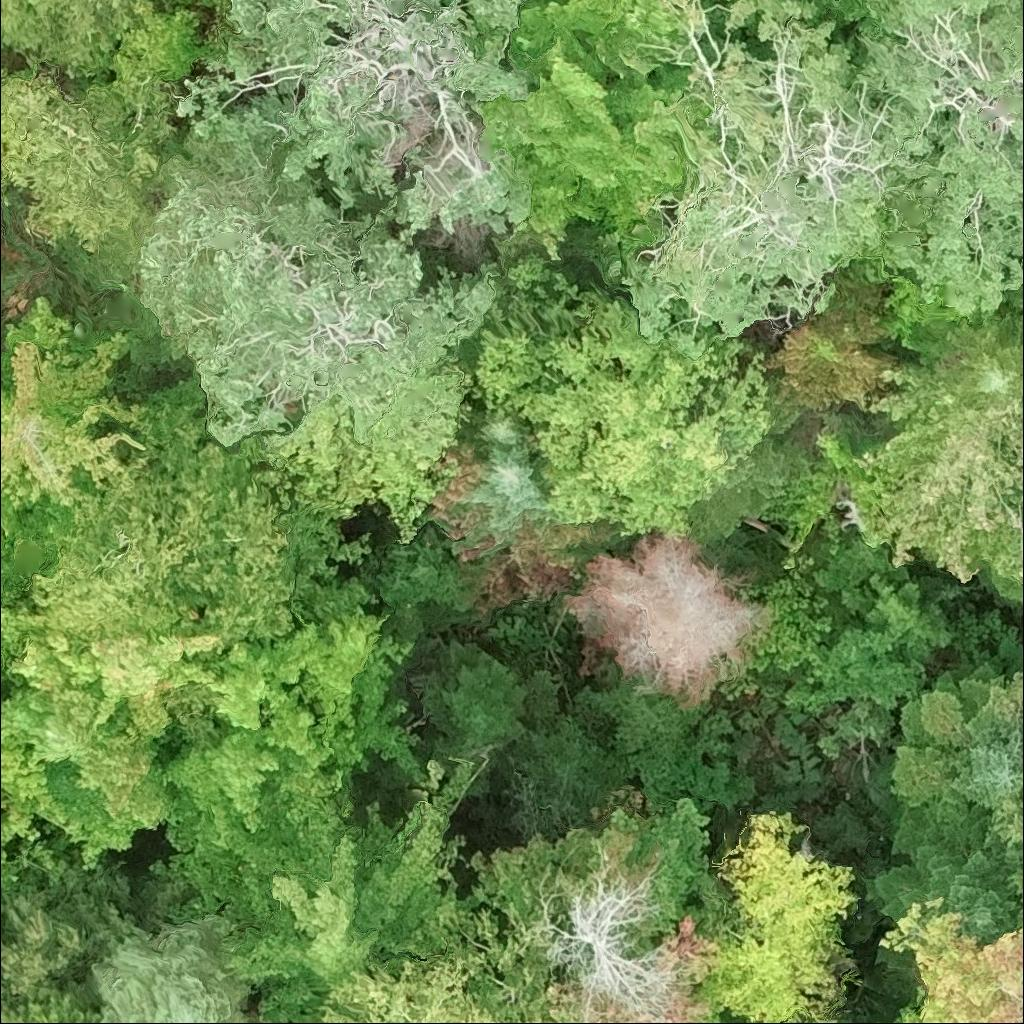crown: (136, 166, 506, 461), (606, 0, 892, 361), (171, 0, 529, 245), (147, 765, 483, 1023), (467, 275, 779, 540), (26, 376, 301, 648), (853, 0, 1023, 322), (474, 36, 689, 262), (469, 794, 741, 948), (849, 363, 1023, 587), (201, 601, 420, 774), (567, 535, 766, 711), (163, 694, 371, 855), (703, 811, 860, 1023), (0, 298, 148, 522), (871, 629, 1023, 840), (0, 598, 231, 728), (0, 78, 170, 252), (235, 408, 450, 541), (516, 910, 728, 1023), (858, 824, 1023, 946), (873, 897, 1023, 1023), (768, 272, 902, 413), (553, 861, 674, 1011), (89, 918, 261, 1023), (311, 952, 533, 1023), (687, 424, 800, 549), (512, 0, 687, 79), (504, 711, 631, 819), (591, 680, 703, 787), (422, 639, 530, 744), (0, 880, 89, 1003), (922, 302, 1023, 409), (0, 0, 136, 71), (465, 449, 552, 546), (981, 763, 1023, 909), (0, 747, 64, 841), (458, 401, 538, 463), (810, 0, 892, 59), (0, 975, 96, 1023), (0, 109, 15, 182), (186, 0, 225, 16), (0, 591, 7, 612), (896, 1016, 912, 1023), (877, 1020, 889, 1023), (842, 1020, 854, 1023), (0, 651, 1, 655)
